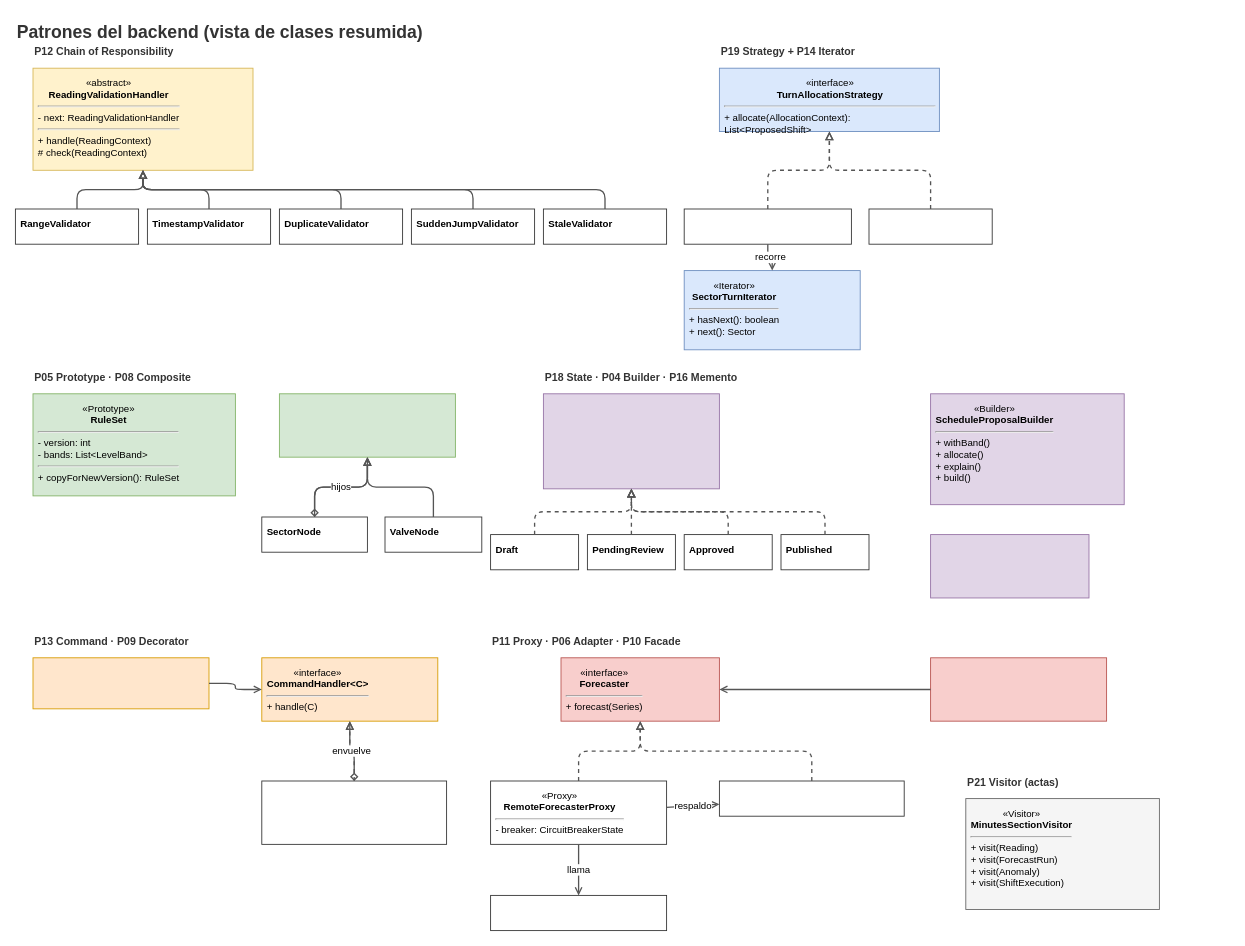
Image size: 1245x946. Some labels were removed from this diagram. Here are the shapes that lost their labels. From the top down, the centre of each, then its label:
[767,226]: PriorityThenLongestWait
[930,226]: EqualSplit
[367,425]: «abstract» NetworkNode + openSequence(): List<Valve>
[631,441]: «interface» ProposalState + approve() + modify(reason) + publish()
[1009,566]: «Memento» ProposalMemento - snapshot: json
[120,683]: CommandBus + dispatch(Command)
[1018,689]: «Facade» TankStatusFacade + statusOf(tankId)
[354,812]: «Decorator» AuditingCommandHandler - inner: CommandHandler
[811,798]: NaivePersistenceForecaster
[578,913]: IaForecastClientAdapter
